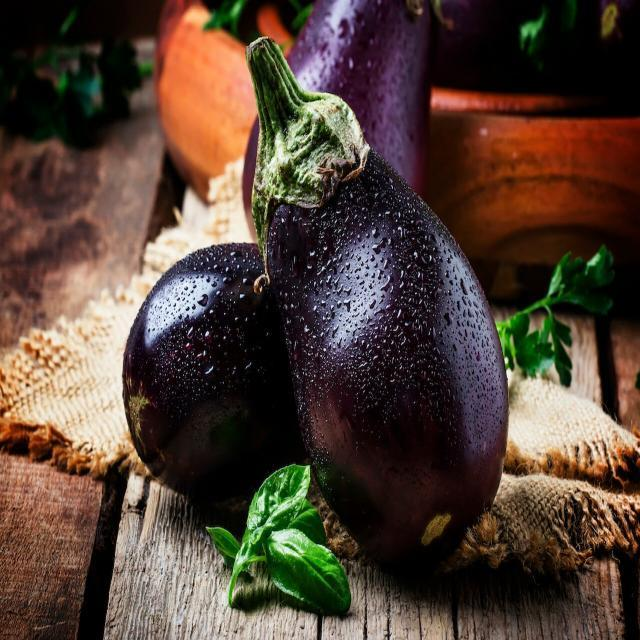eggplant: (235, 26, 534, 568)
